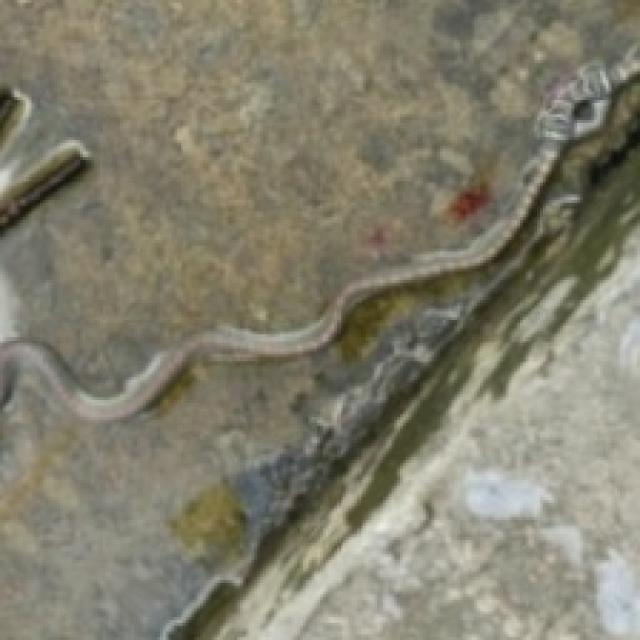paradise tree snake: (0, 142, 566, 422)
